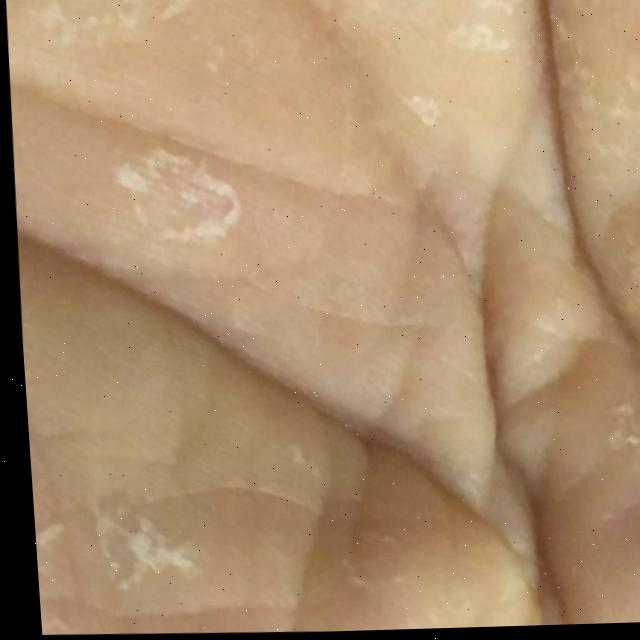Eczema: (24, 0, 640, 611)
